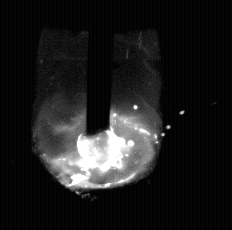arame: (87, 0, 111, 137)
poca: (32, 0, 161, 230)
